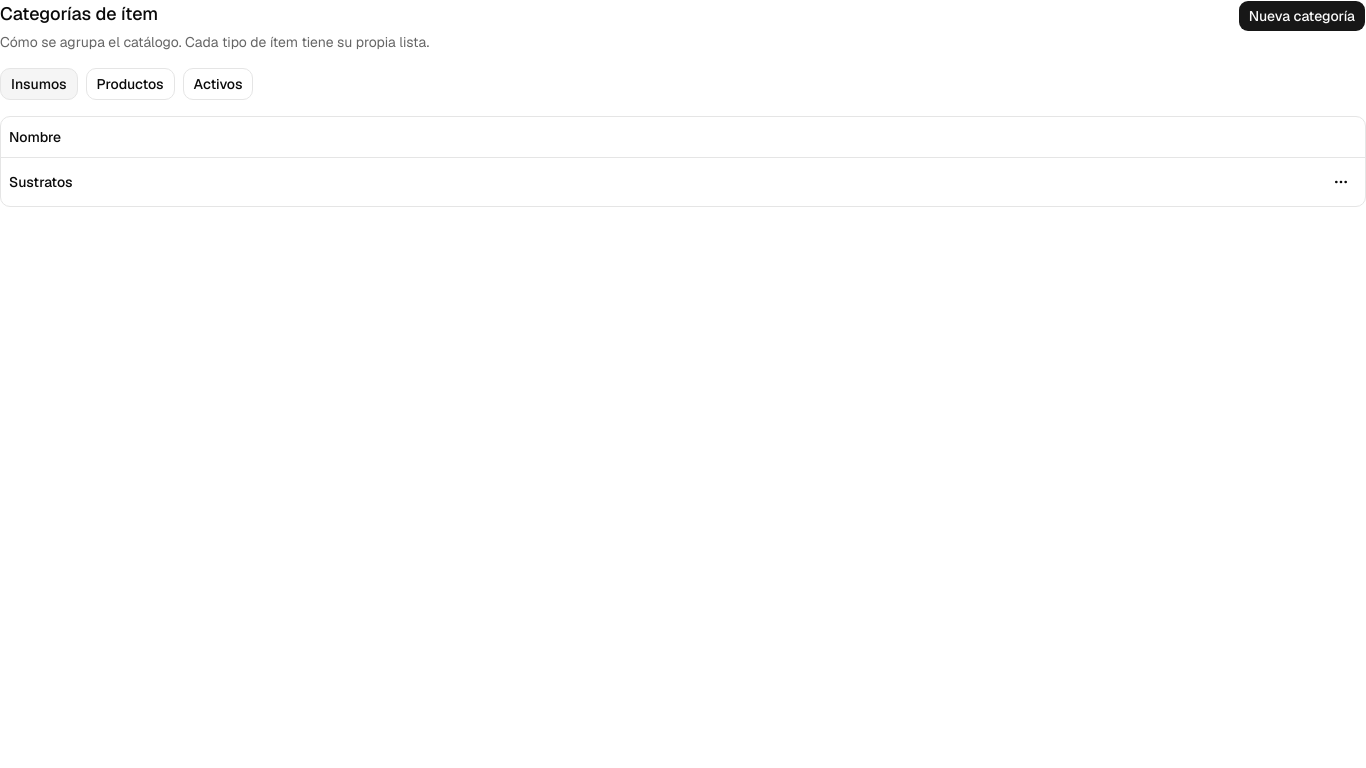
Test: ItemCategoriesSection › con un nombre repetido, el diálogo sigue abierto con lo escrito
The width and height of the screenshot is (1366, 768).
Click the button "Nueva categoría" at (1302, 16), box [1238,0,1365,32]
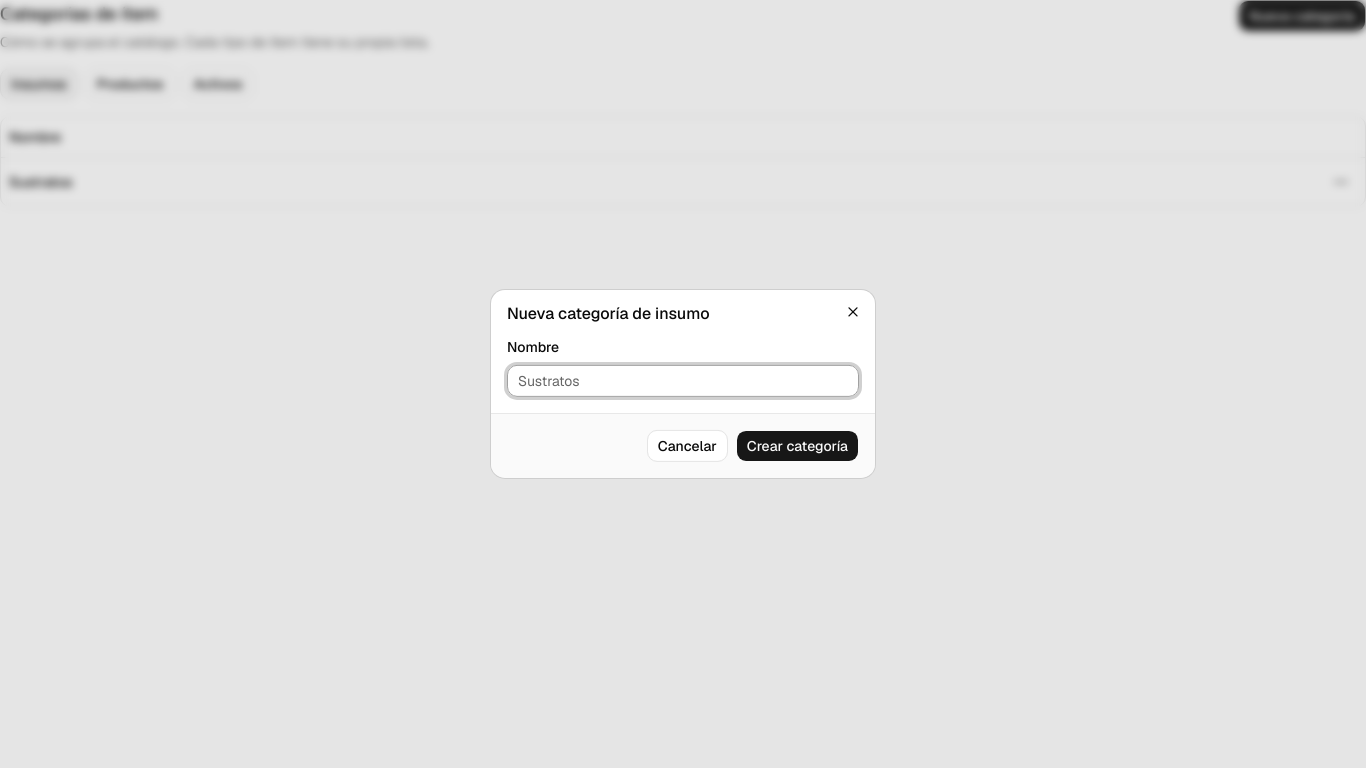
Type "sustratos " into the field labelled "Nombre" at (683, 381), box [507,365,859,397]
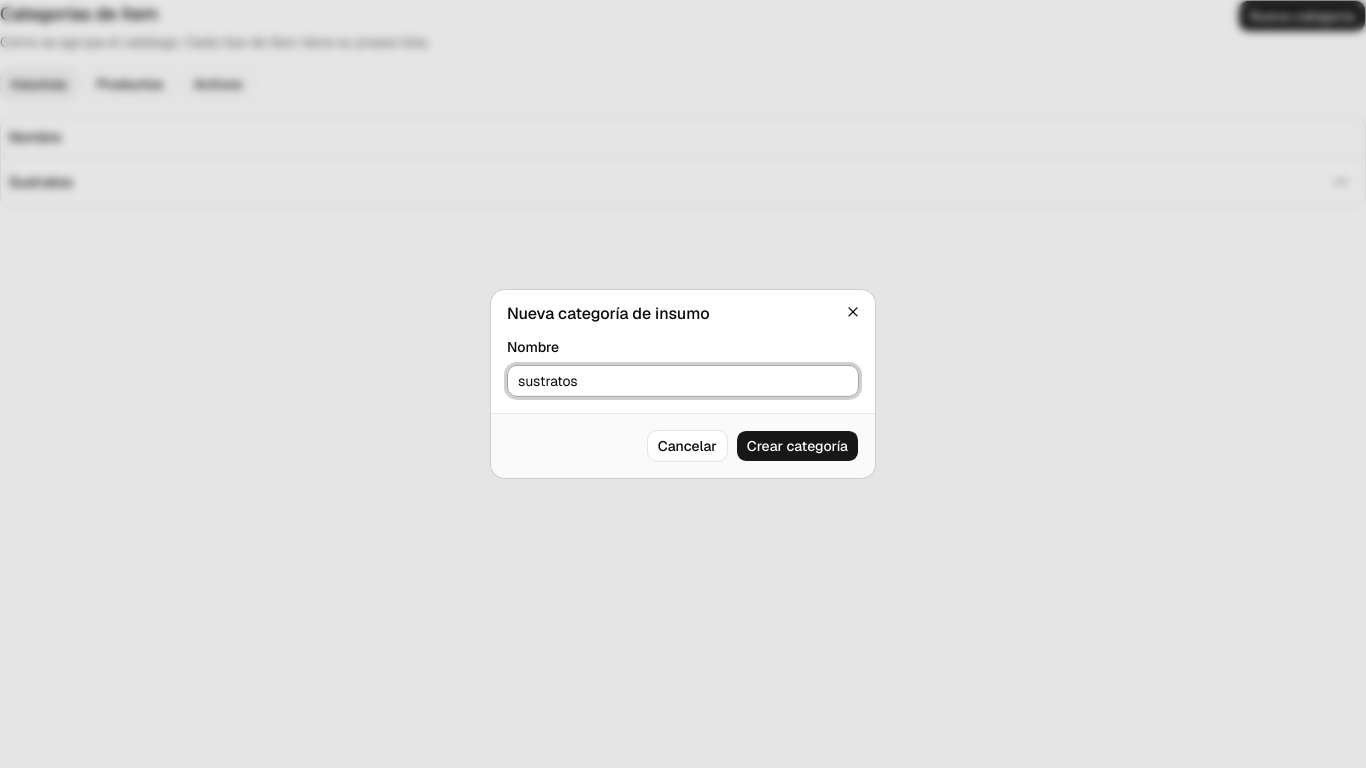
Click the button "Crear categoría" at (797, 446), box [736,430,859,462]
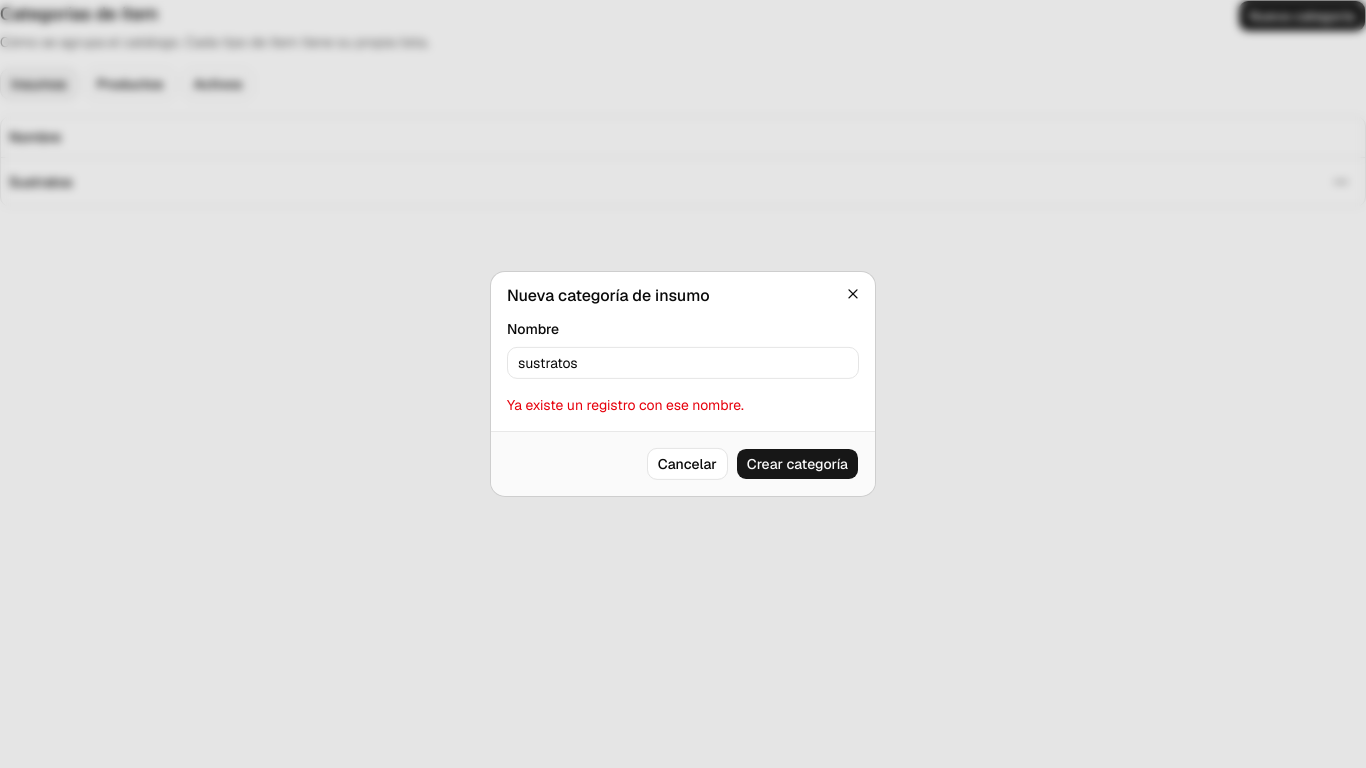
Check: the message reads "Ya existe un registro con ese nombre.", box [507,396,744,414]
